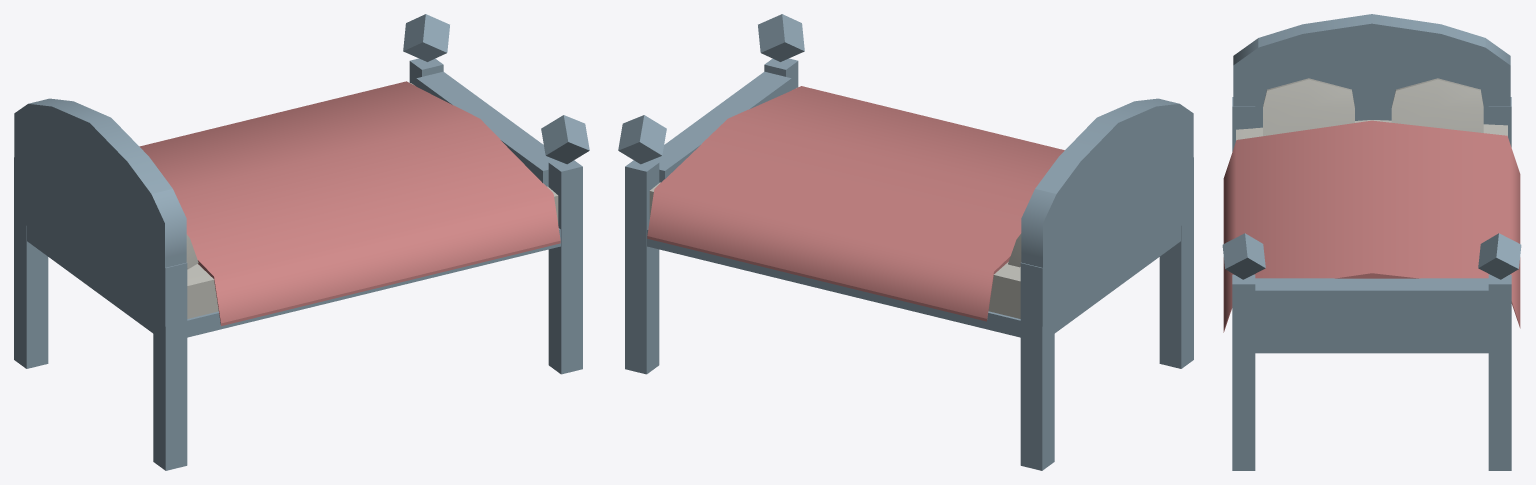
Rendered from Bed.fbx.
3 views of the same model, side by side, from view 1: azimuth 30°, elevation 25°; view 2: azimuth 150°, elevation 25°; view 3: azimuth 270°, elevation 25° (orthographic). The views are drawn at different scales.
Parts seen in each view (by area): view 1: Bed:Bed; view 2: Bed:Bed; view 3: Bed:Bed.
Part boxes in pixels (bbox=[...]): Bed:Bed: bbox=[14, 14, 589, 470]; Bed:Bed: bbox=[618, 14, 1193, 470]; Bed:Bed: bbox=[1222, 14, 1521, 470].
Size of the model in its own units: 16.01 by 10.46 by 10.52.
